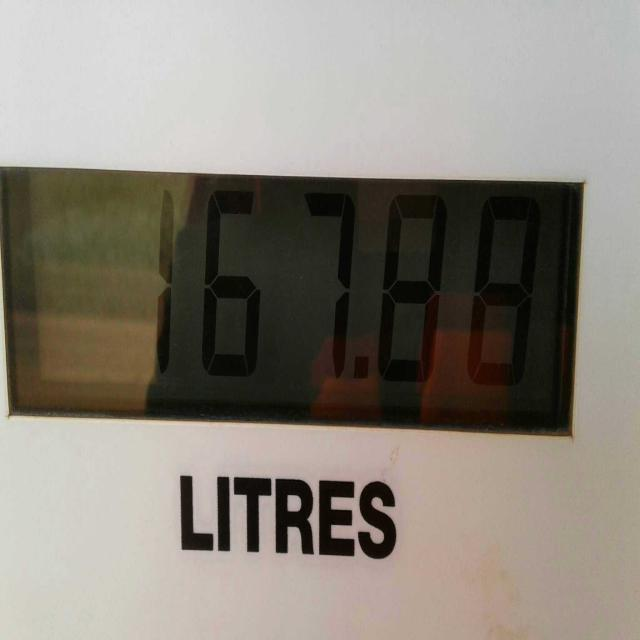.: (353, 359, 367, 383)
1: (154, 192, 178, 376)
6: (203, 186, 263, 374)
7: (306, 192, 352, 379)
8: (475, 198, 535, 376), (381, 198, 440, 378)
